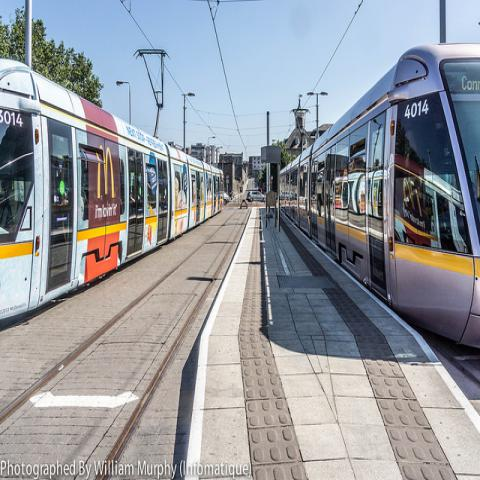car: (246, 191, 266, 203), (224, 192, 230, 206)
